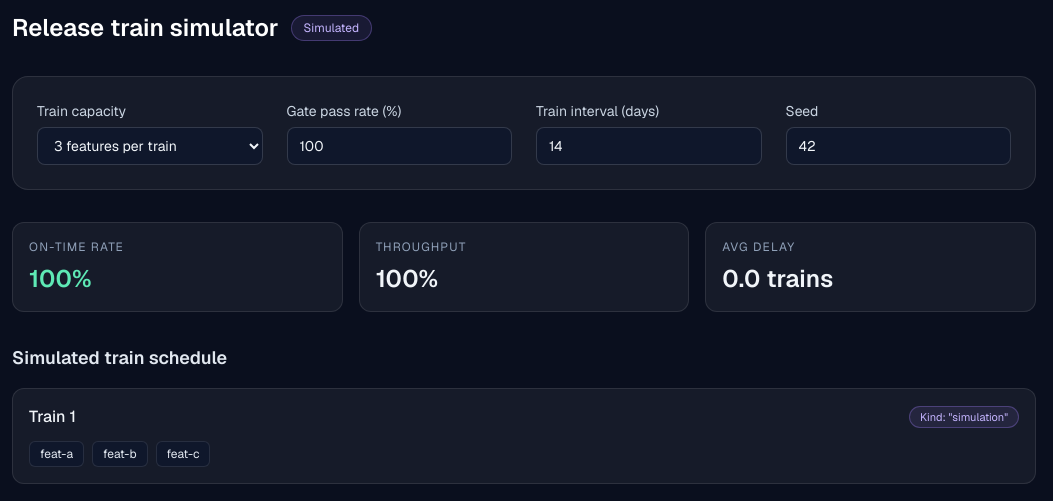
Scenario: SimulationPanel › negative scenarios › boards nothing when the gate always fails
Replace the text in the number field labelled "Gate pass rate (%)" with "0" at (399, 146), box [286,127,512,165]
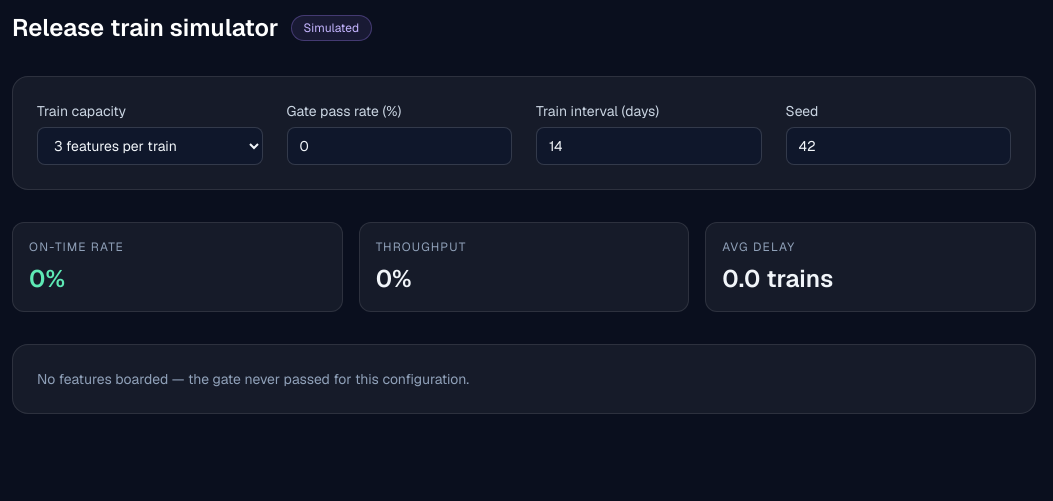
Now the heading "Train 1" is gone
Now the text "No features boarded" is shown, box [37,370,469,388]
